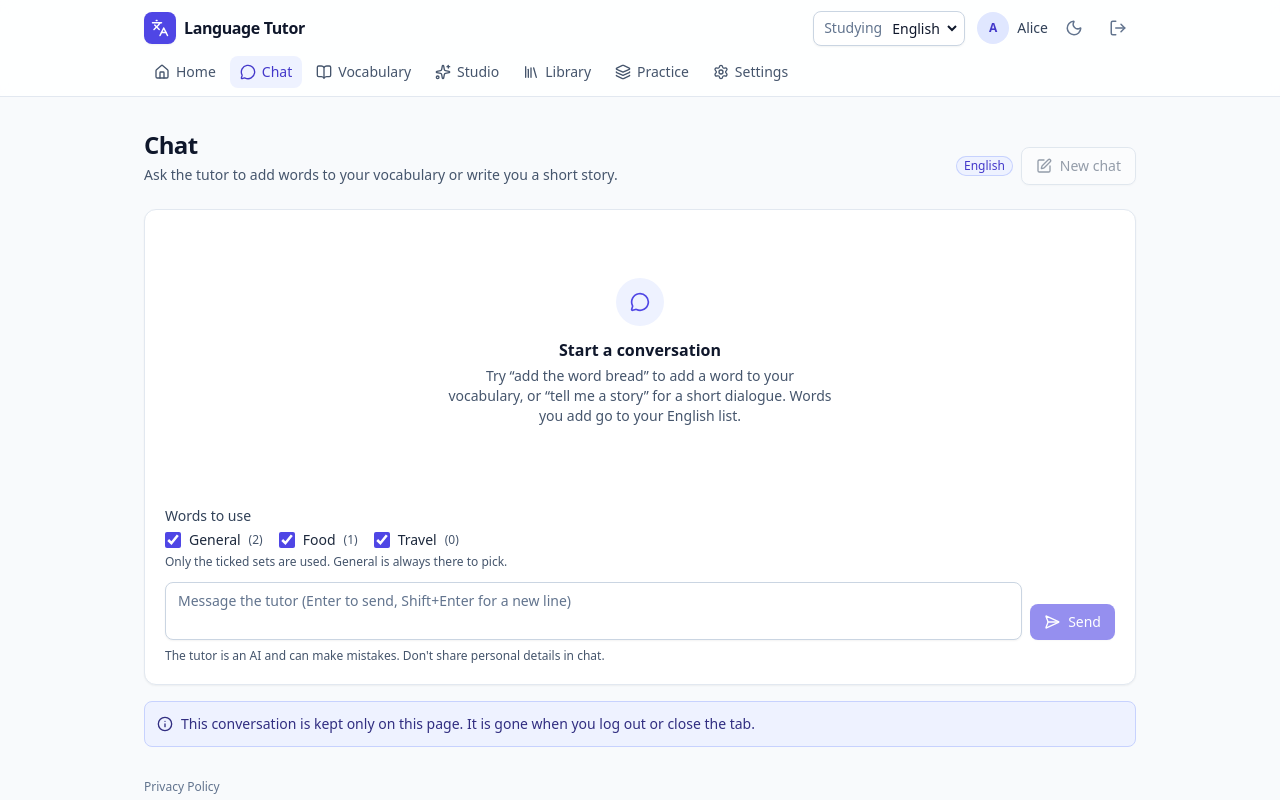
Test: choosing sets for stories and chat › Chat sends the ticked set ids with the message
Click the checkbox labelled "Travel (0)" at (382, 540), box [374,532,390,548]
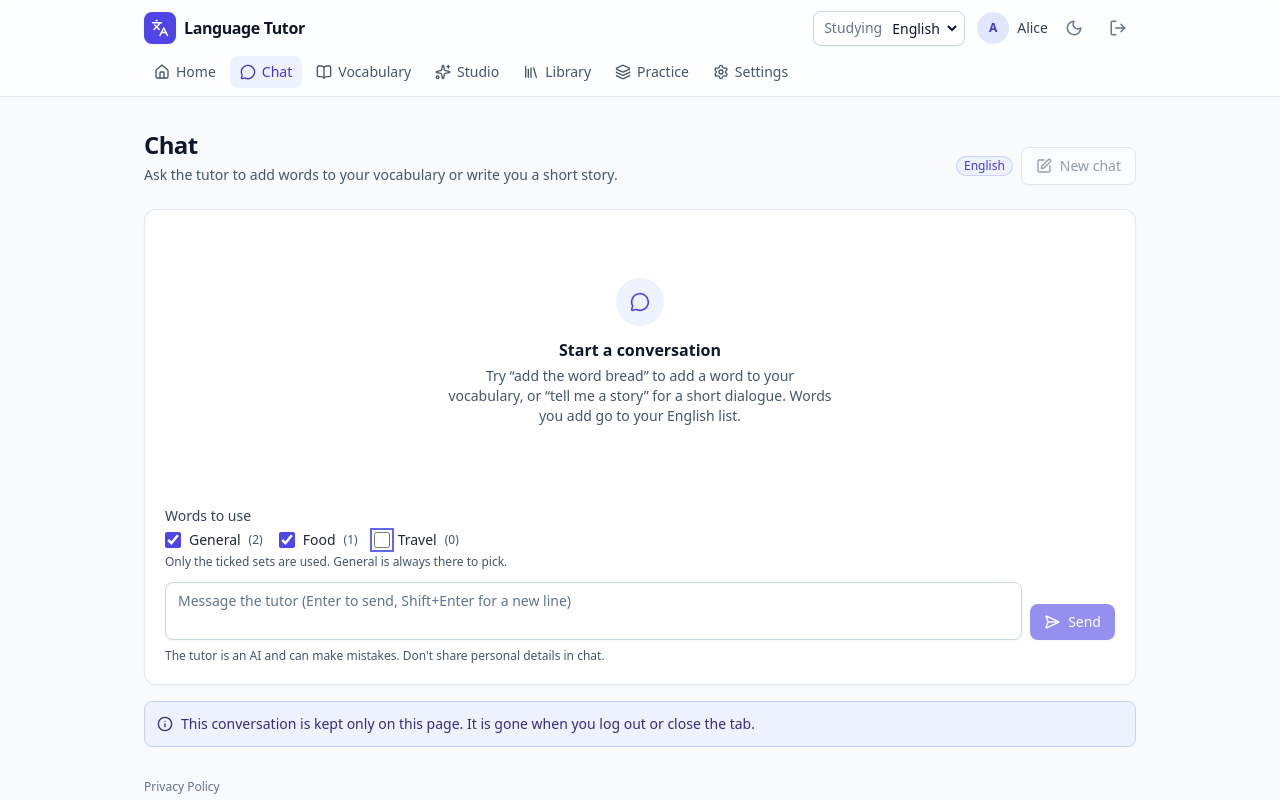
Type "tell me a story" into the text box labelled "Message" at (594, 611), box [165,582,1022,640]
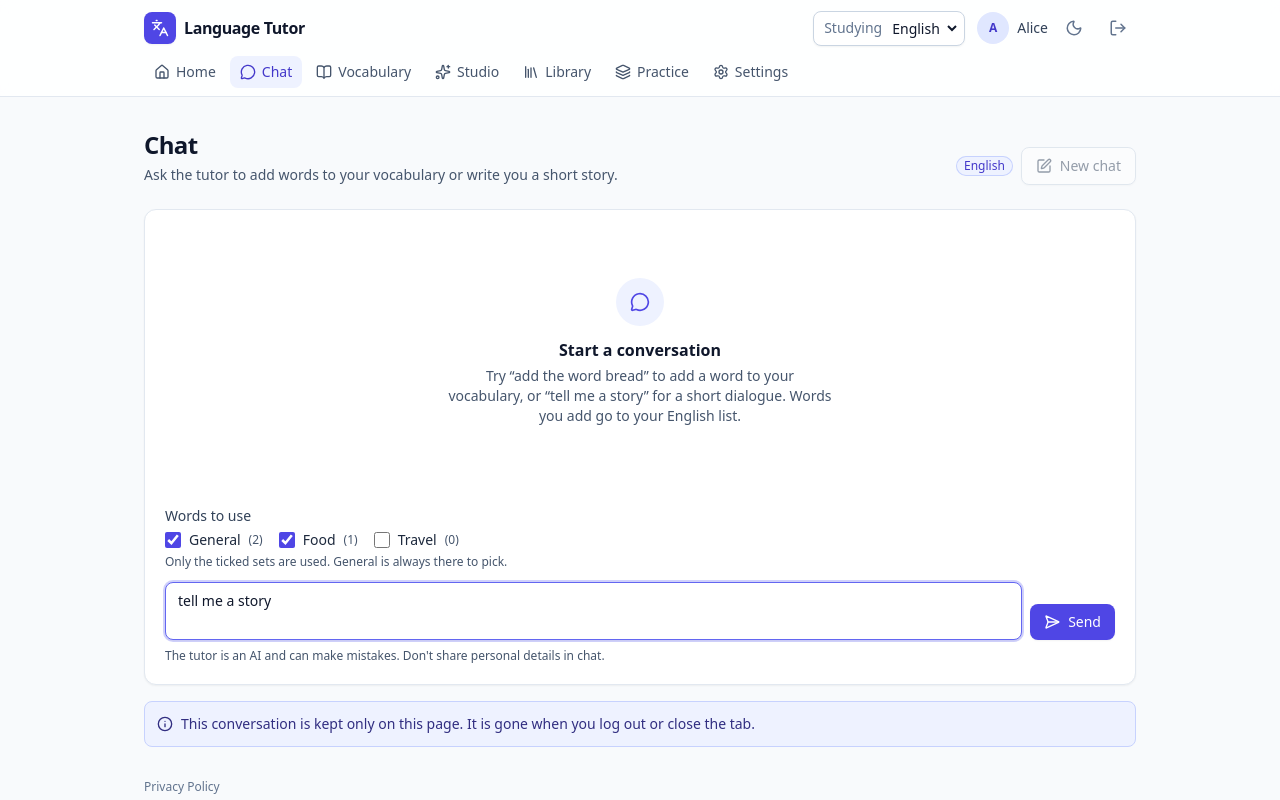
Click the button "Send" at (1073, 622), box [1030,604,1115,640]
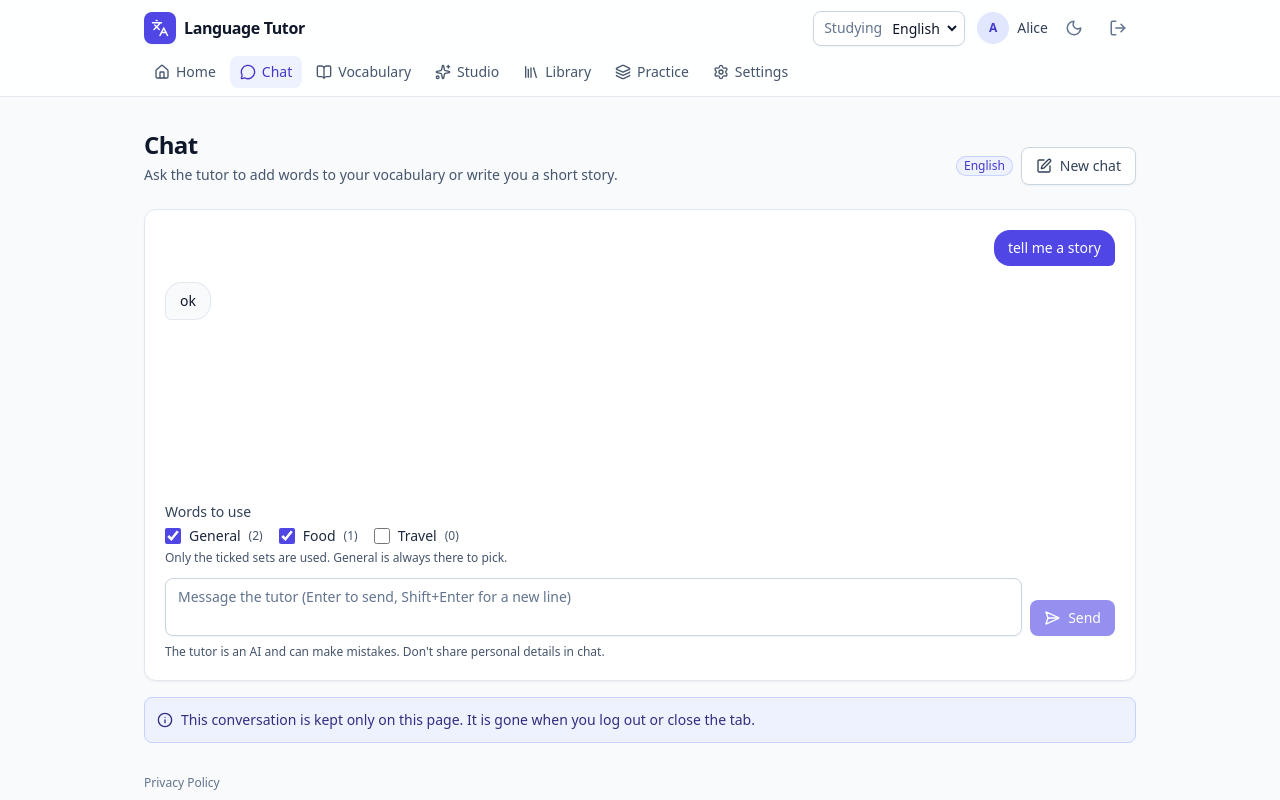
Now the text "ok" is shown, box [165,282,211,320]
